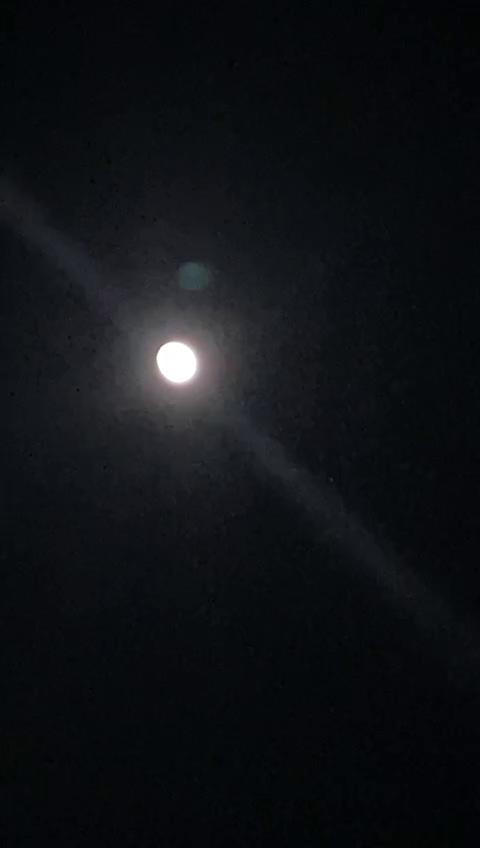moon: (150, 334, 208, 390)
